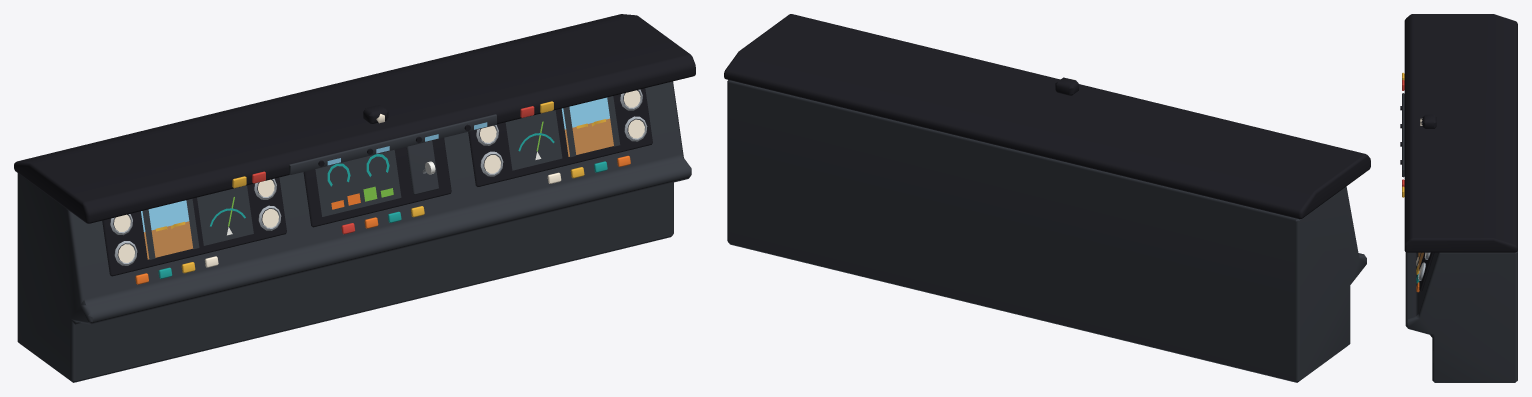
Rendered from Cuadro.fbx.
3 views of the same model, side by side, from view 1: azimuth 30°, elevation 25°; view 2: azimuth 150°, elevation 25°; view 3: azimuth 270°, elevation 25° (orthographic). The views are drawn at different scales.
Parts seen in each view (by area): view 1: Cuadro; view 2: Cuadro; view 3: Cuadro.
Boxes of the visible parts, <box> form: Cuadro: <box>14,14,695,382</box>; Cuadro: <box>724,14,1370,382</box>; Cuadro: <box>1400,14,1517,382</box>.
Size of the model in its own units: 10 by 3.2 by 2.22.
1 material, 1 textured.
